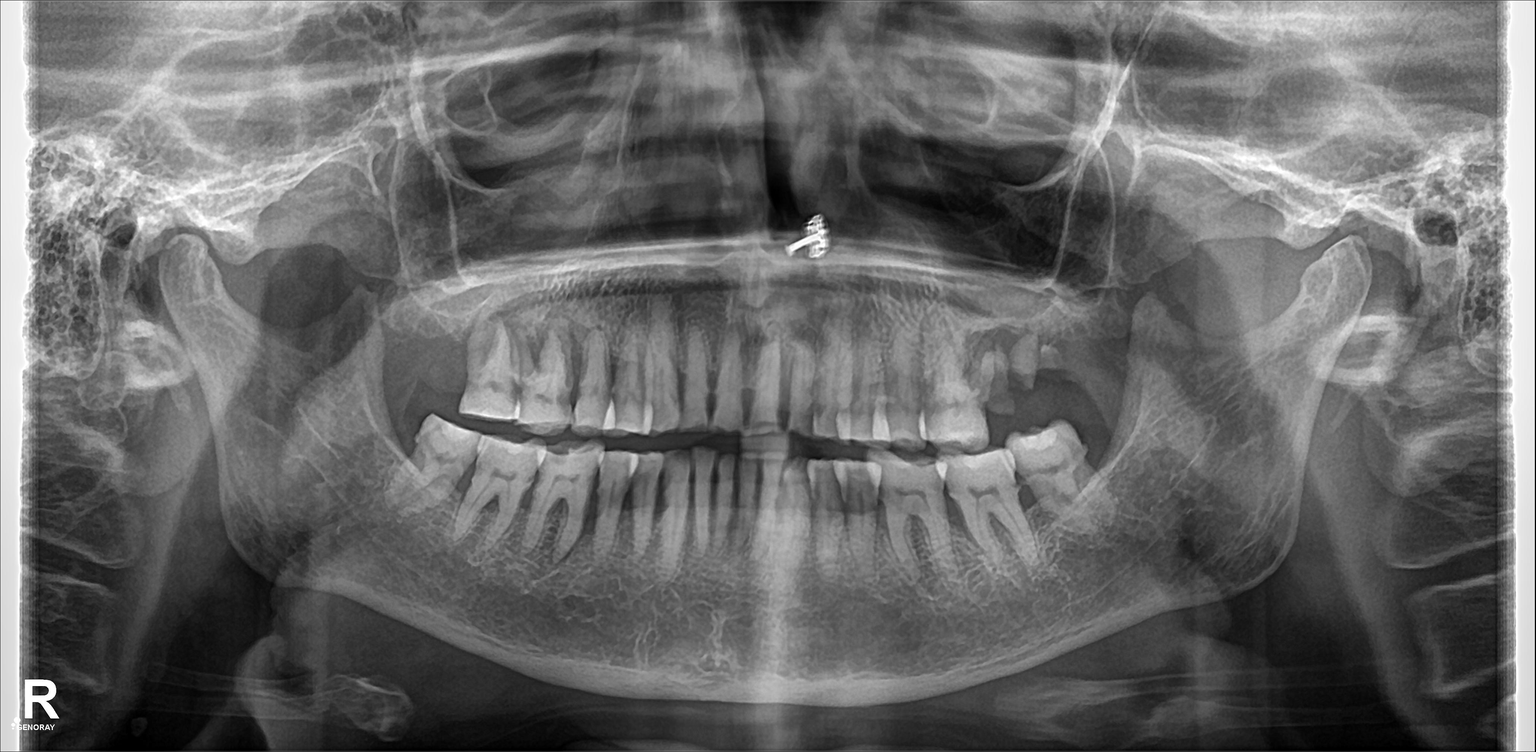Missing Tooth: (1069, 311, 1110, 401), (393, 311, 431, 407), (436, 307, 472, 407), (1089, 404, 1123, 468)
Retained Root: (972, 331, 1012, 425), (1017, 322, 1055, 408)
